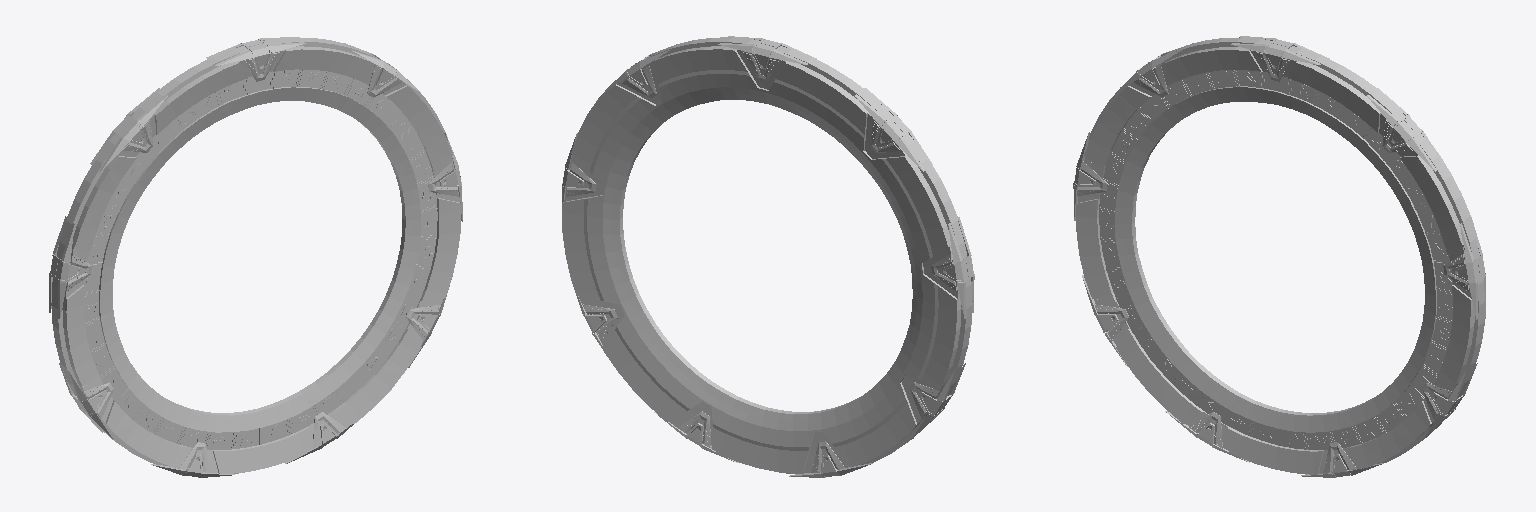
The model's file is milkyway_stargate_full.obj.
3 renders of one model, left to right at view 1: azimuth 30°, elevation 25°; view 2: azimuth 150°, elevation 25°; view 3: azimuth 330°, elevation 25°, orthographic.
Parts seen in each view (by area): view 1: chevronBack_Circle.003; view 2: chevronBack_Circle.003; view 3: chevronBack_Circle.003.
Part boxes in pixels (left/top/right/bottom): chevronBack_Circle.003: left=49, top=37, right=462, bottom=477; chevronBack_Circle.003: left=562, top=36, right=974, bottom=477; chevronBack_Circle.003: left=1073, top=36, right=1485, bottom=477.
Size of the model in its own units: 10.19 by 10.2 by 0.6449.